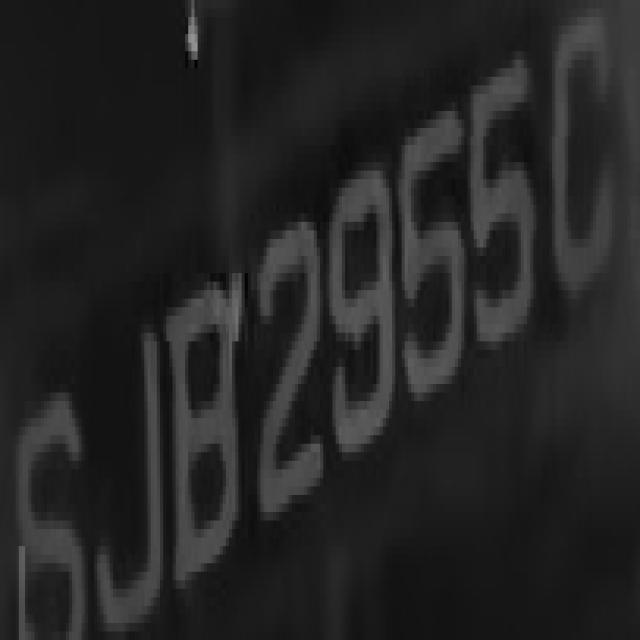2: (242, 154, 345, 520)
5: (452, 51, 543, 401), (392, 94, 480, 435)
9: (317, 153, 405, 478)
B: (157, 256, 241, 597)
C: (549, 0, 618, 265)
J: (0, 4, 1, 8)
S: (0, 5, 1, 9)
